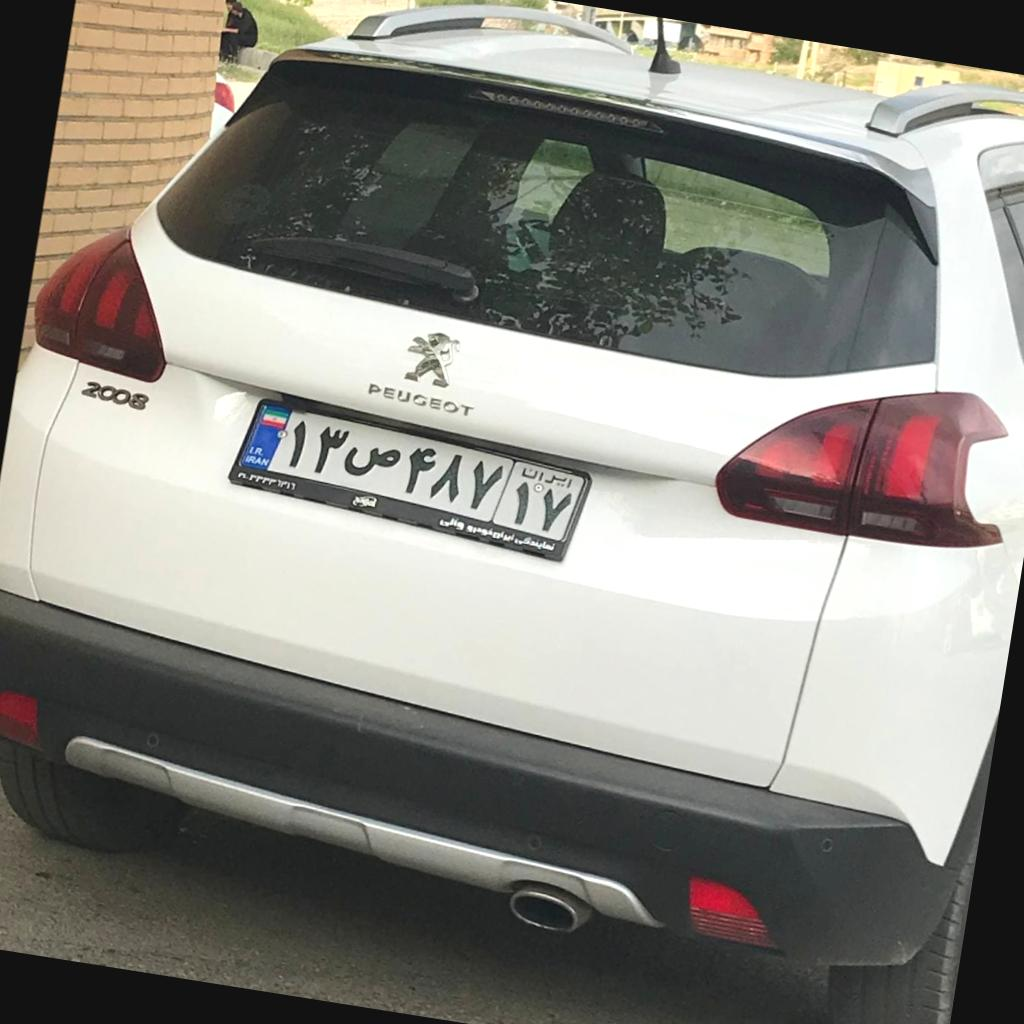Plates: (238, 403, 586, 542)
